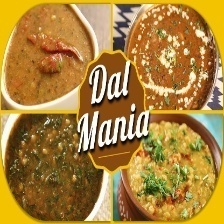dal: (1, 113, 107, 222)
